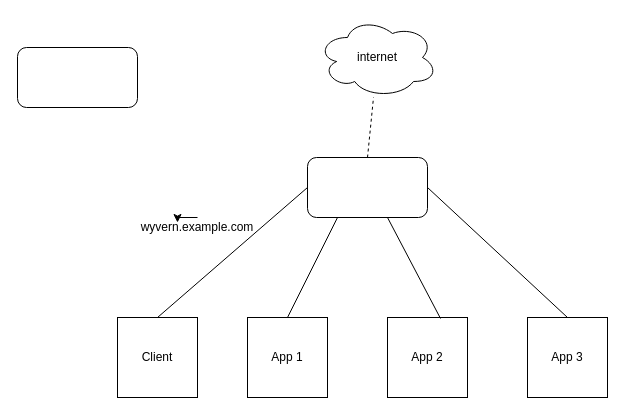
This 625x415 diagram has some shape labels left out. Each missing label, with the centre of its shape:
Traefik: (367,187)
Use Cases: - showcase portfolio - management of internal tools: (77,77)
